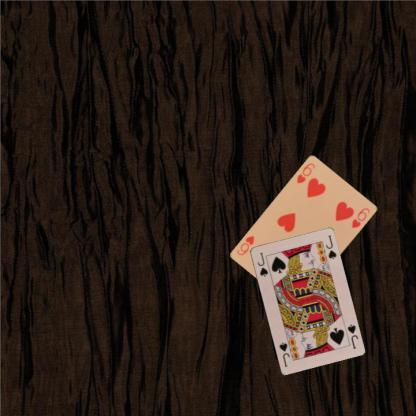6h: (294, 161, 316, 185)
Js: (254, 249, 270, 278), (344, 321, 360, 350)
